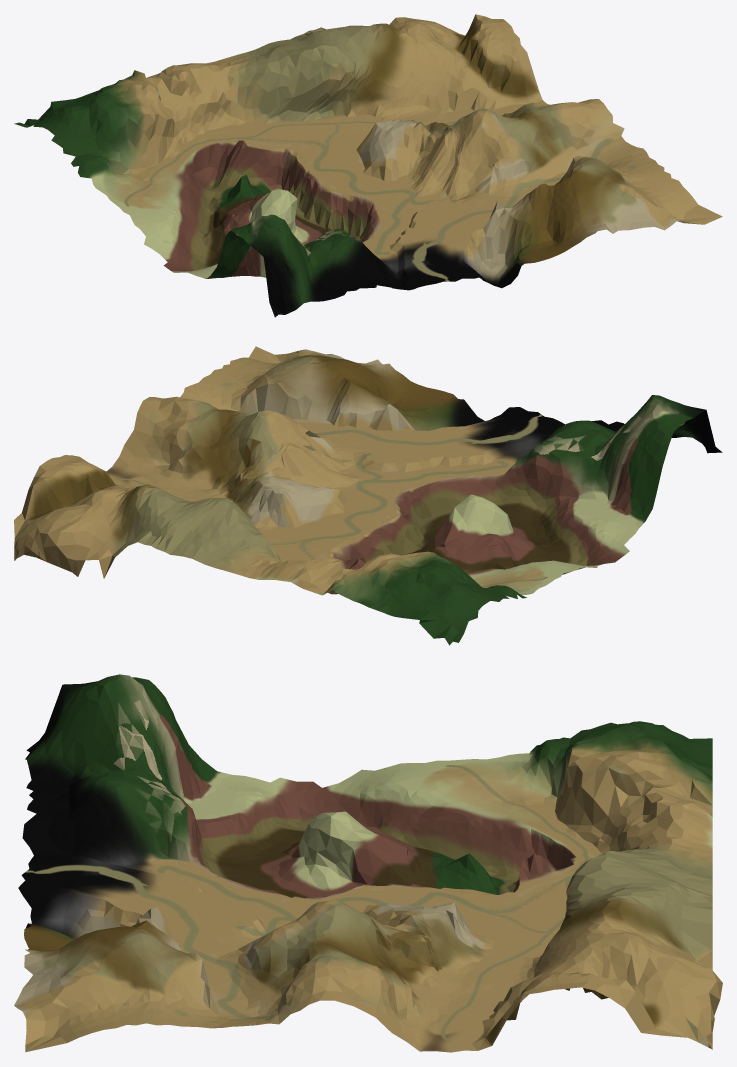
The model's file is TM12_Terrain.fbx.
3 renders of one model, top to bottom at view 1: azimuth 30°, elevation 25°; view 2: azimuth 150°, elevation 25°; view 3: azimuth 270°, elevation 25°, orthographic. The views are drawn at different scales.
Parts seen in each view (by area): view 1: TM12_Starsand2, TM12.ThreelineValley_Down, TM12.NextValley, TM12.Dryfork, TM12.ThreelineValley_Up, TM12.MineEntrance, TM12.DreamBeach2.001, TM12.MissingHill; view 2: TM12.ThreelineValley_Up, TM12.MineEntrance, TM12.Dryfork, TM12.DreamBeach2.001, TM12_Starsand2, TM12.ThreelineValley_Down, TM12.NextValley, TM12.MissingHill; view 3: TM12_Starsand2, TM12.ThreelineValley_Up, TM12.MineEntrance, TM12.ThreelineValley_Down, TM12.DreamBeach2.001, TM12.NextValley, TM12.MissingHill, TM12.Dryfork.
Boxes of the visible parts, left/top/right/bottom form: TM12_Starsand2: left=14, top=63, right=235, bottom=268; TM12.ThreelineValley_Down: left=456, top=103, right=722, bottom=242; TM12.NextValley: left=202, top=23, right=395, bottom=189; TM12.Dryfork: left=282, top=68, right=481, bottom=240; TM12.ThreelineValley_Up: left=374, top=14, right=603, bottom=135; TM12.MineEntrance: left=333, top=192, right=579, bottom=290; TM12.DreamBeach2.001: left=163, top=214, right=392, bottom=317; TM12.MissingHill: left=197, top=140, right=360, bottom=268; TM12.ThreelineValley_Up: left=14, top=396, right=286, bottom=576; TM12.MineEntrance: left=333, top=375, right=600, bottom=511; TM12.Dryfork: left=236, top=434, right=452, bottom=562; TM12.DreamBeach2.001: left=542, top=395, right=722, bottom=565; TM12_Starsand2: left=264, top=551, right=602, bottom=645; TM12.ThreelineValley_Down: left=152, top=346, right=402, bottom=450; TM12.NextValley: left=76, top=484, right=356, bottom=579; TM12.MissingHill: left=344, top=494, right=569, bottom=572; TM12_Starsand2: left=314, top=721, right=712, bottom=873; TM12.ThreelineValley_Up: left=304, top=900, right=722, bottom=1052; TM12.MineEntrance: left=18, top=791, right=274, bottom=951; TM12.ThreelineValley_Down: left=14, top=905, right=319, bottom=1052; TM12.DreamBeach2.001: left=24, top=674, right=323, bottom=856; TM12.NextValley: left=499, top=827, right=712, bottom=969; TM12.MissingHill: left=203, top=811, right=543, bottom=898; TM12.Dryfork: left=255, top=883, right=571, bottom=967.
Size of the model in its own units: 32918 by 8149 by 33366.
